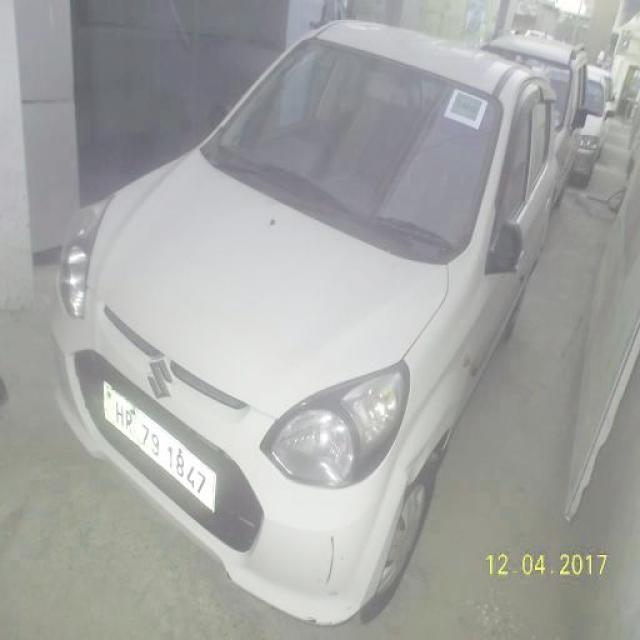car damage: (320, 528, 341, 602)
